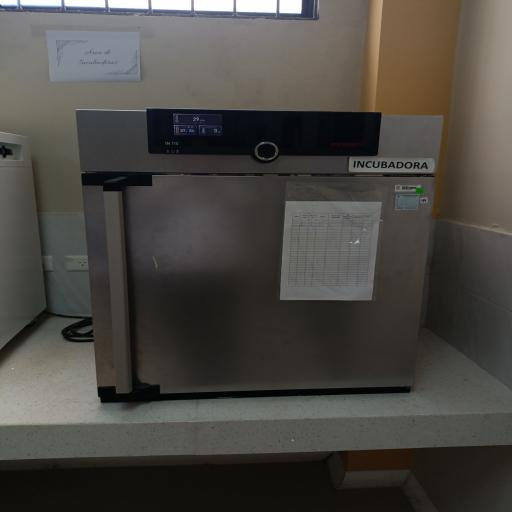Incubadora: (65, 98, 451, 412)
